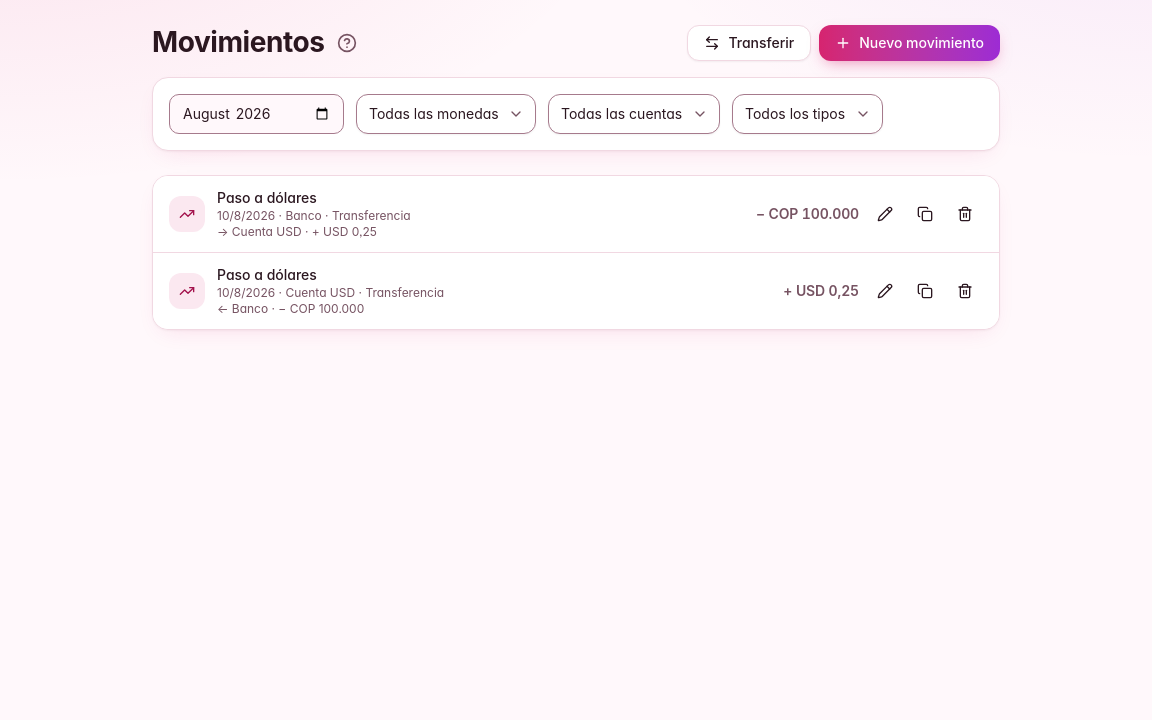
Test case: Transactions — editar transferencias (M8) › «Transferir» abre el formulario vacío aunque se acabe de editar una
This screenshot has width=1152, height=720.
Click the button named "Editar transferencia «" in the row of "→ Cuenta USD · + USD 0,25" at (885, 214), box [867,196,903,232]
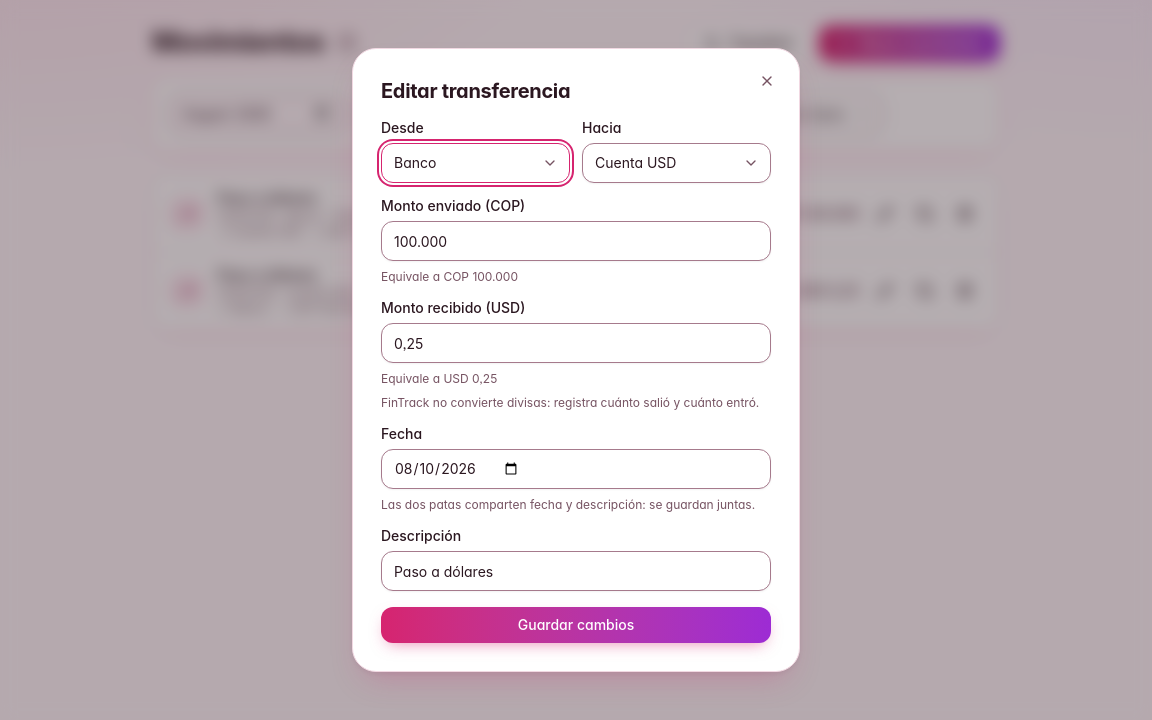
Click the button named "cerrar" at (767, 81), box [751,65,783,97]
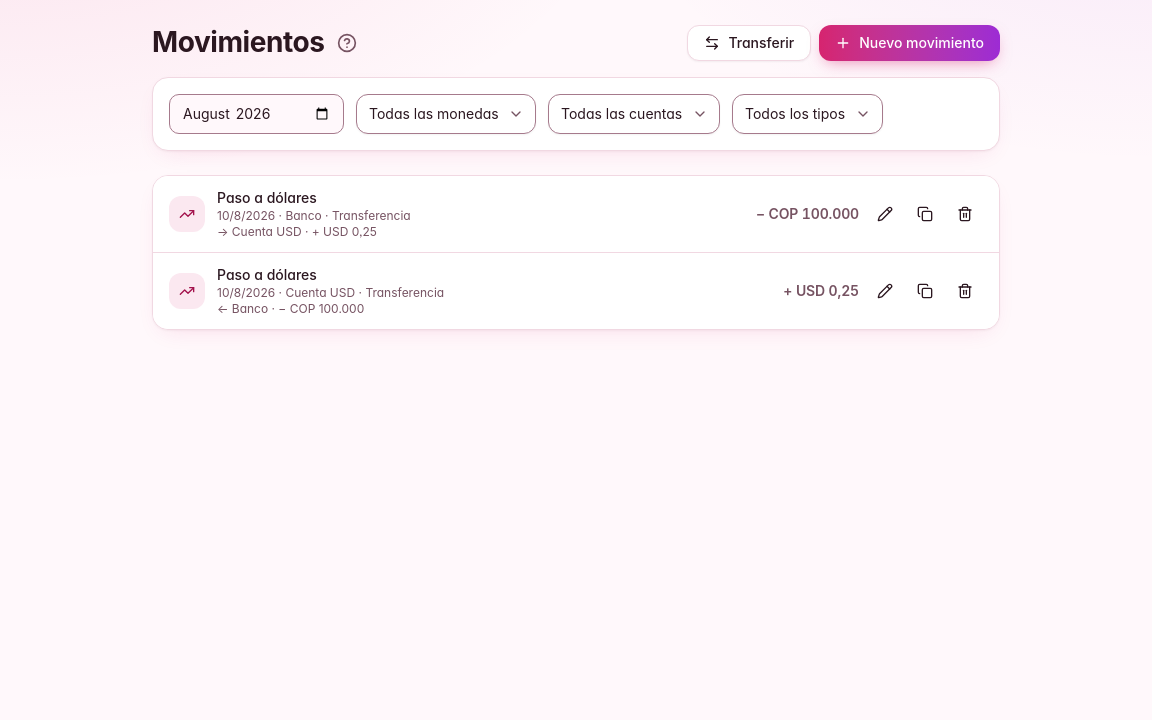
Click the button "Transferir" at (749, 43), box [687,25,811,61]
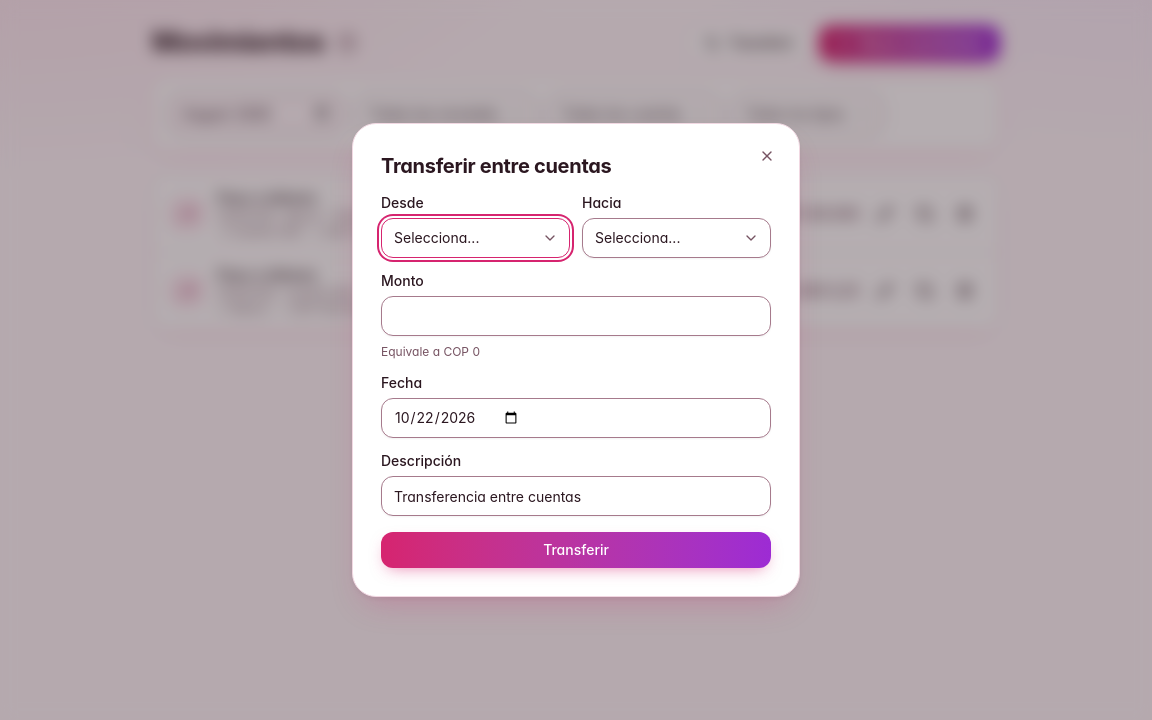
Check: the heading "Transferir entre cuentas" is shown, box [381,154,611,178]
Check: the dropdown labelled "Desde" shows "Selecciona...", box [381,218,570,258]
Check: the button "Transferir" is shown, box [381,532,771,568]
